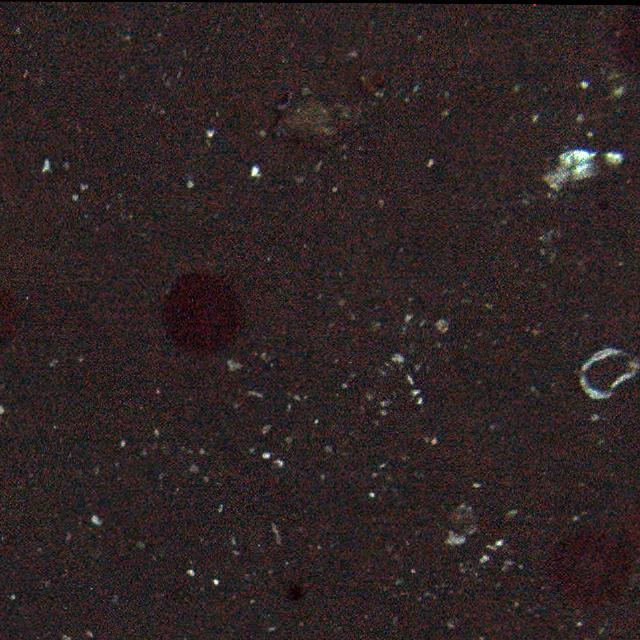whelk: (265, 91, 358, 152)
